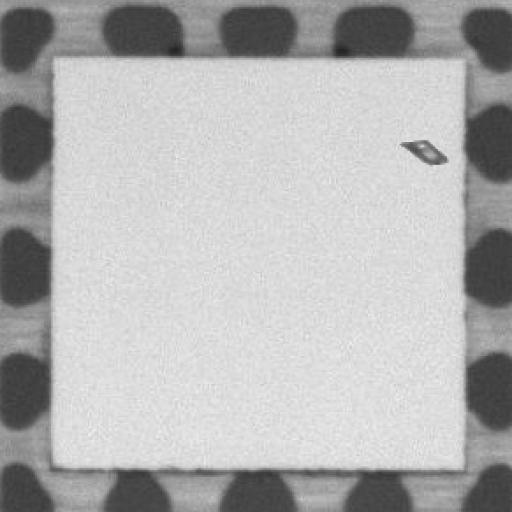DIE_INK: (391, 134, 445, 167)
